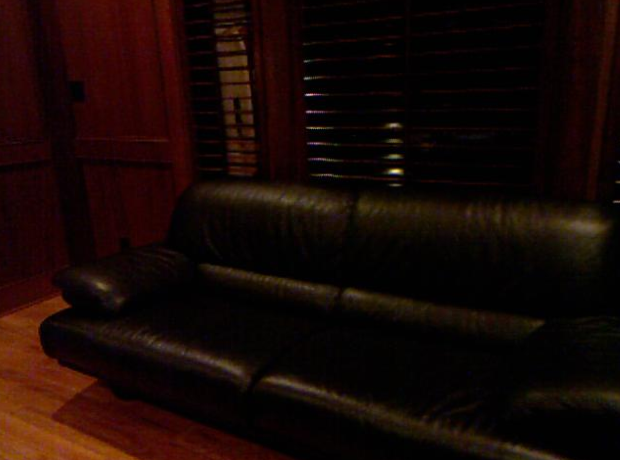couch: (37, 177, 620, 460)
window: (299, 10, 412, 173), (191, 9, 260, 162)
